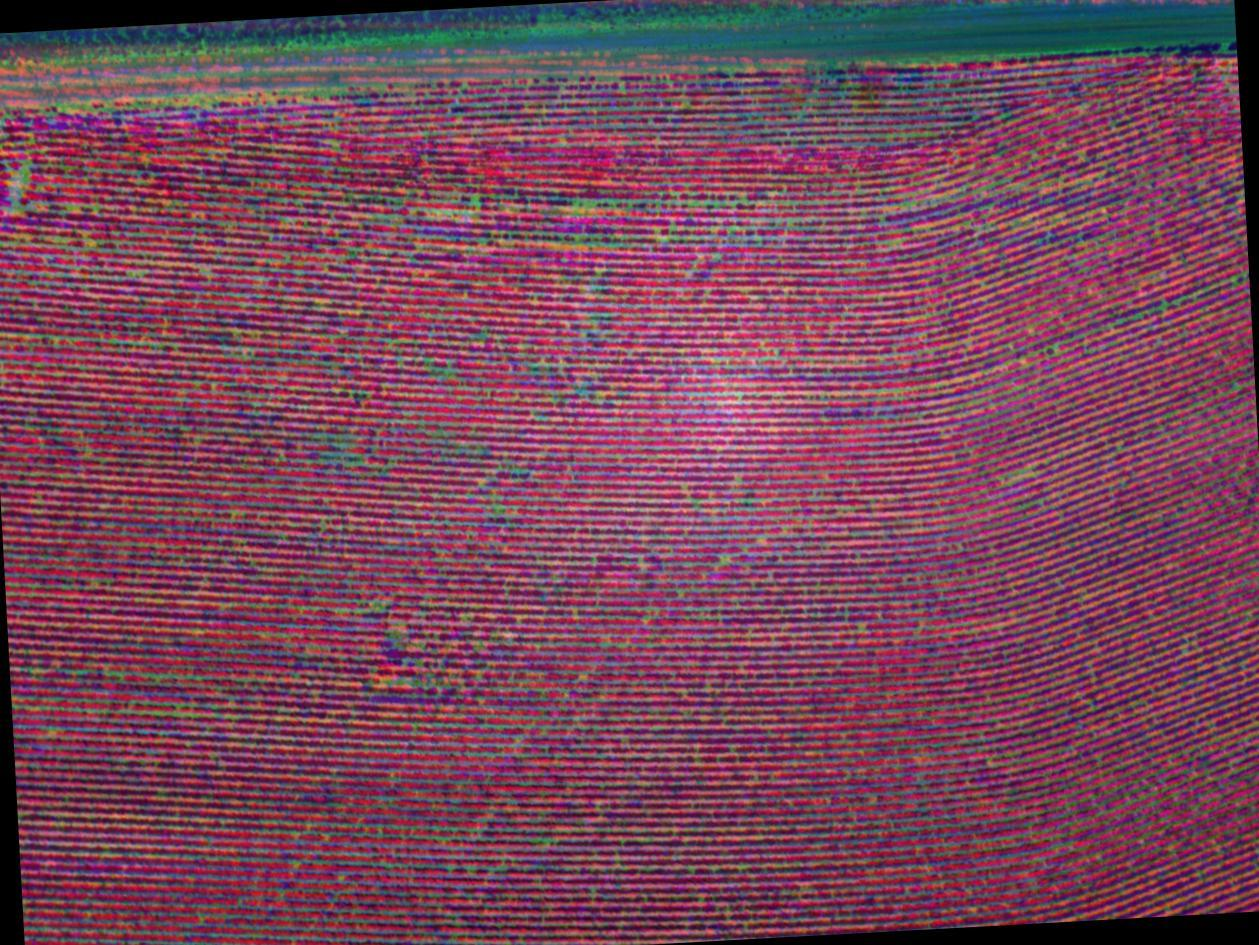dc: (356, 589, 482, 716), (586, 165, 757, 235), (326, 394, 435, 497), (0, 132, 86, 245), (409, 174, 519, 251)
